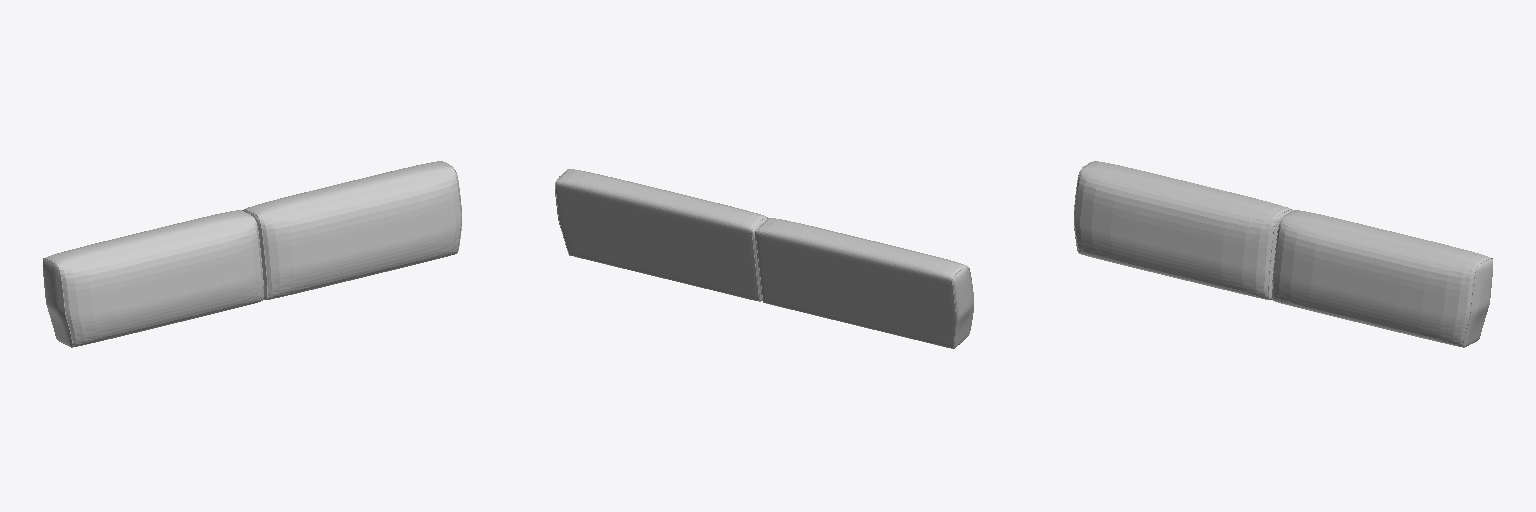
Rendered from poshti.s.obj.
3 renders of one model, left to right at view 1: azimuth 30°, elevation 25°; view 2: azimuth 150°, elevation 25°; view 3: azimuth 330°, elevation 25°, orthographic.
Visible parts, largest first — view 1: poshti; view 2: poshti; view 3: poshti.
Boxes of the visible parts, <box> form: poshti: <box>43,161,461,347</box>; poshti: <box>555,169,973,348</box>; poshti: <box>1074,161,1492,347</box>.
Bounding box in the file's own units: 59.56 × 11.88 × 7.42.